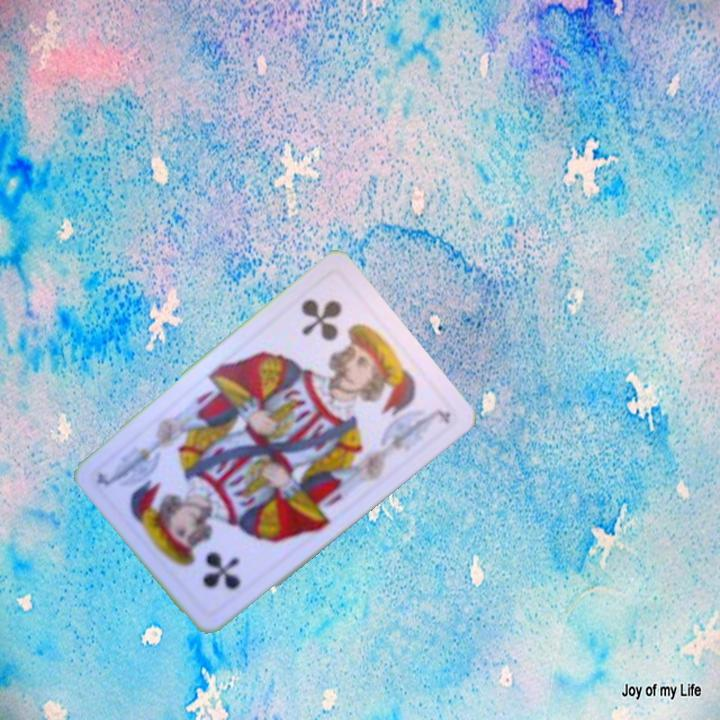c_j.png: (147, 490, 275, 619), (271, 268, 398, 397)
